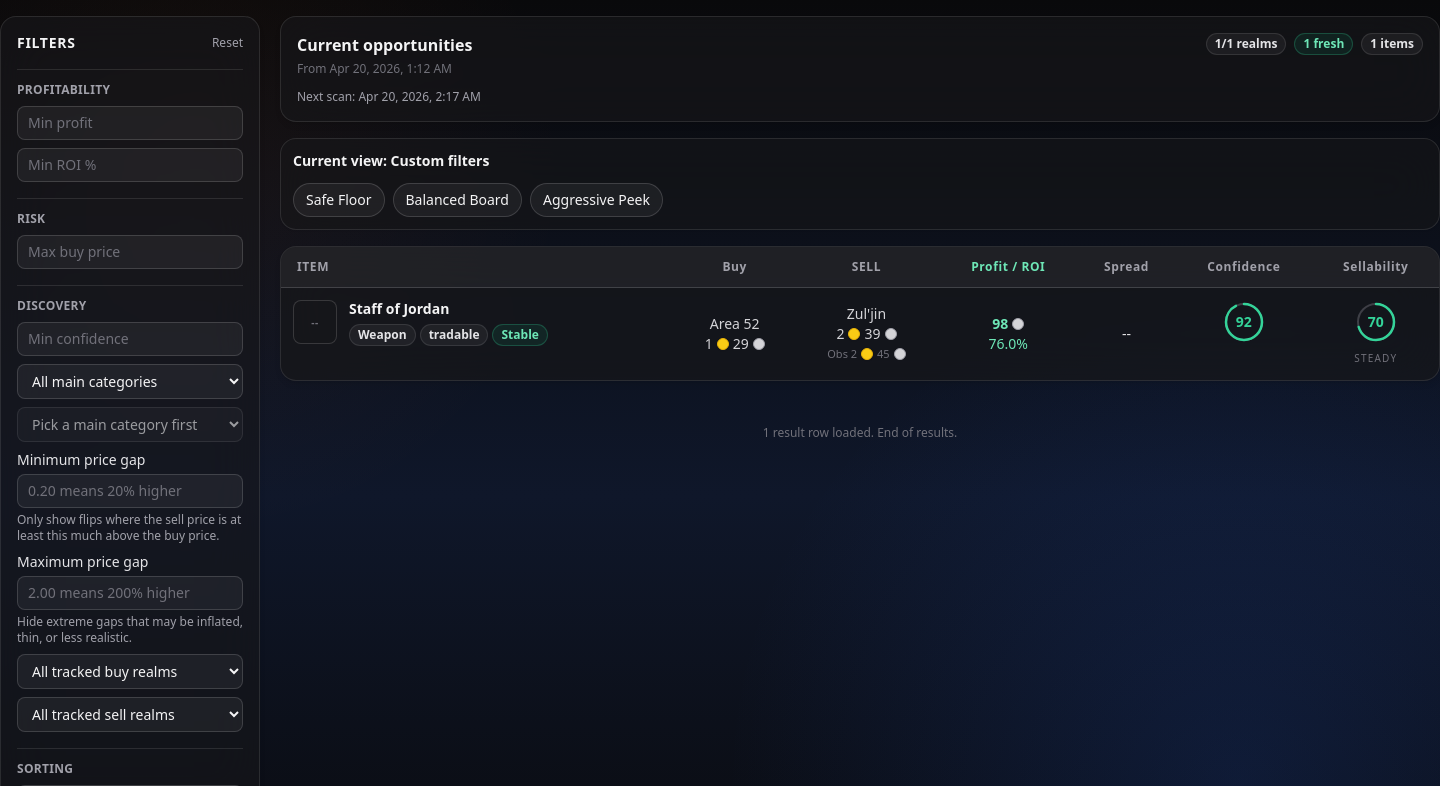
Test case: Scanner page › highlights Aggressive Peek when it is selected
Click the button "Aggressive Peek" at (596, 200), box [530,183,663,217]
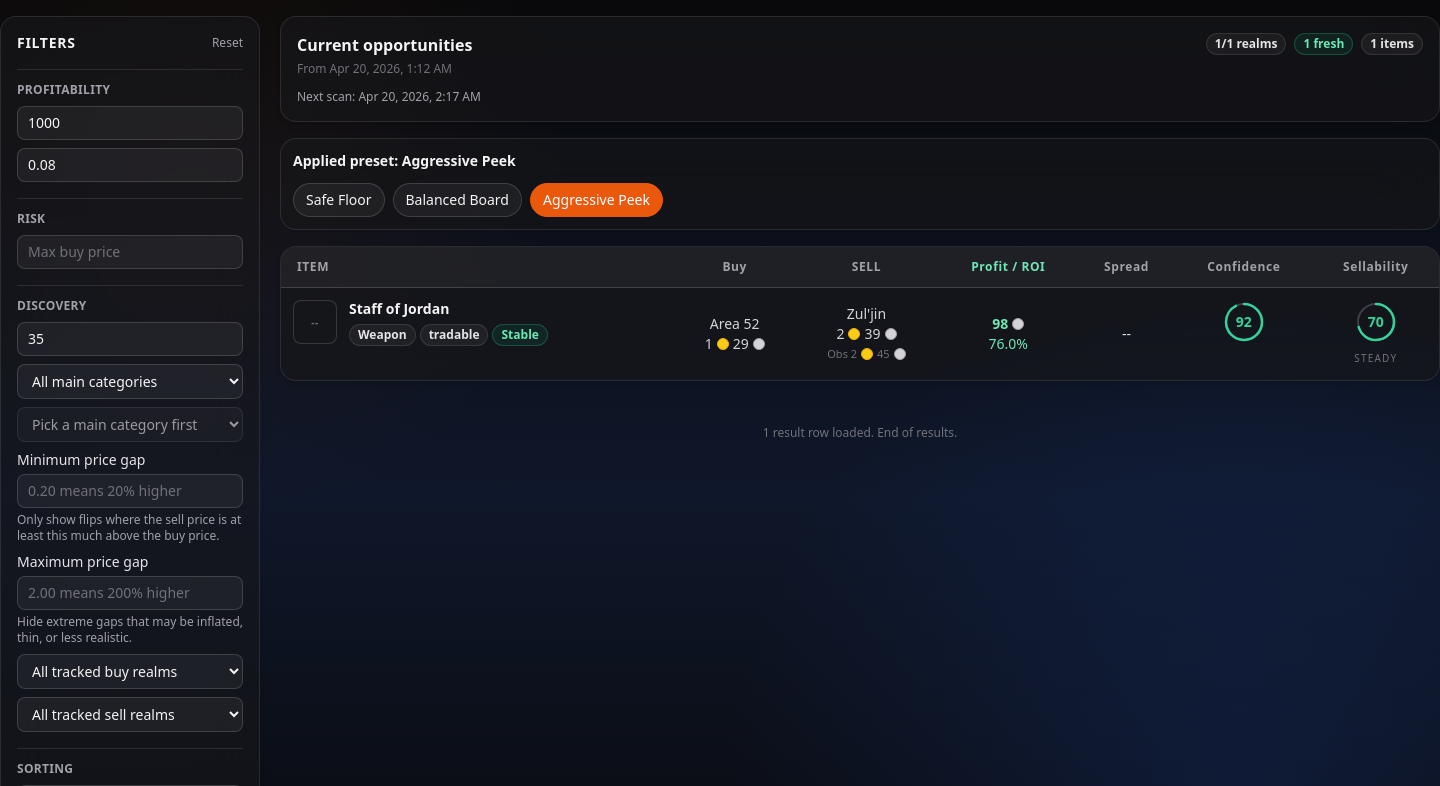
expect the text "Applied preset: Aggressive Peek" is shown: met, box [293,151,516,171]
